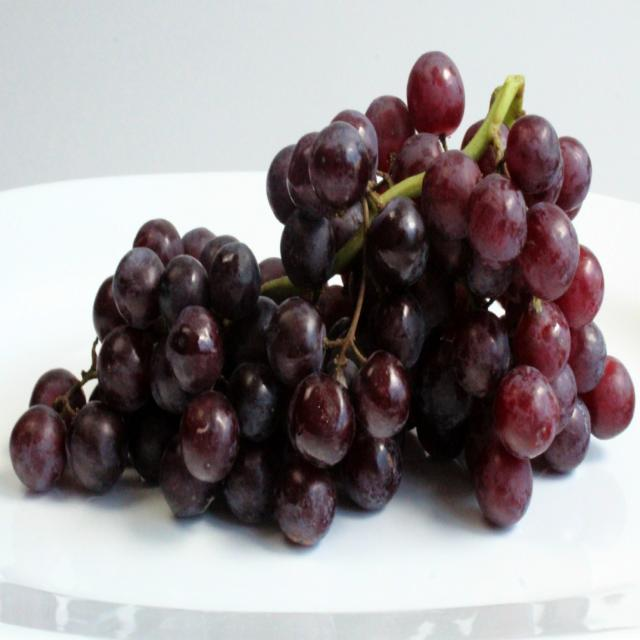grape: (9, 52, 634, 545)
